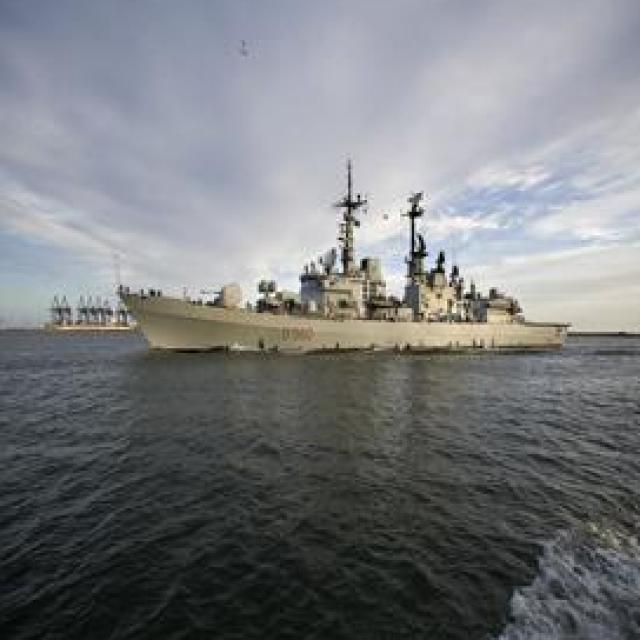navalvessels: (110, 165, 577, 358)
